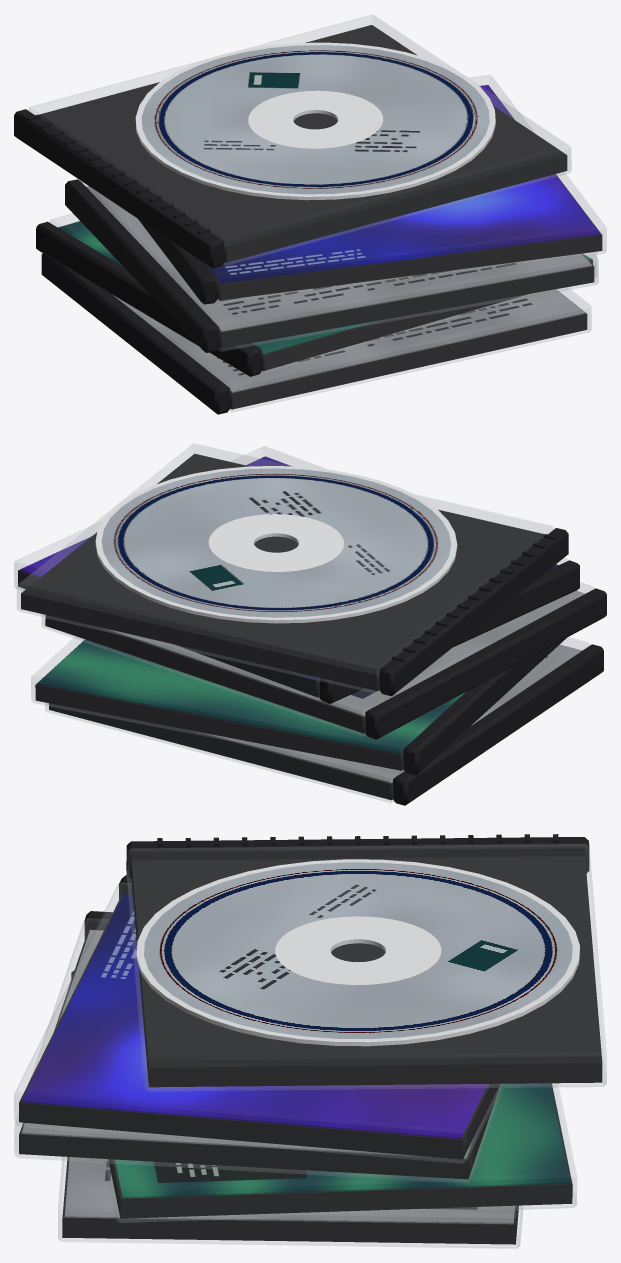
The model's file is SM_DiscStack.fbx.
3 renders of one model, top to bottom at view 1: azimuth 30°, elevation 25°; view 2: azimuth 150°, elevation 25°; view 3: azimuth 270°, elevation 25°, orthographic. The views are drawn at different scales.
Parts seen in each view (by area): view 1: SM_DiscStack; view 2: SM_DiscStack; view 3: SM_DiscStack.
Part boxes in pixels (box(x1,y1,x2,y2)): SM_DiscStack: box(14, 14, 606, 414); SM_DiscStack: box(14, 443, 606, 805); SM_DiscStack: box(14, 834, 606, 1248).
Bounding box in the file's own units: 16.92 × 6.01 × 16.02.
